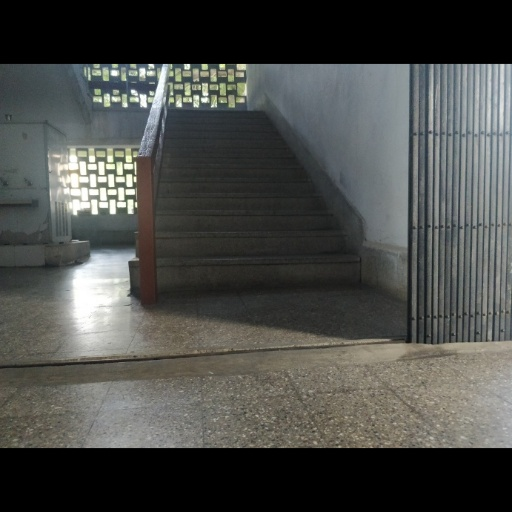Stairs: (156, 110, 360, 293)
